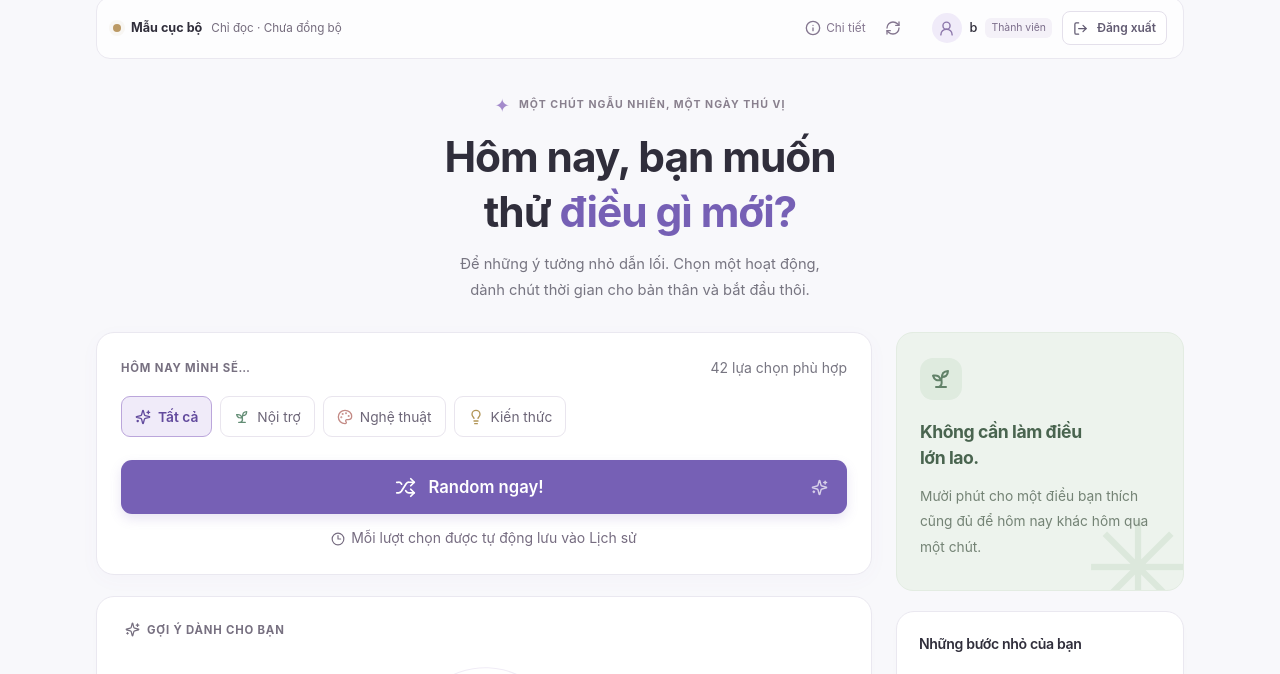
Random cho khách và mẫu chỉ đọc › cộng đồng có dữ liệu sau tải lại: thay mẫu, bỏ nhãn mẫu và cho Member đóng góp
Click the button named "Tải lại thư viện".
click(892, 28)  # box x1=878 y1=10 x2=908 y2=46
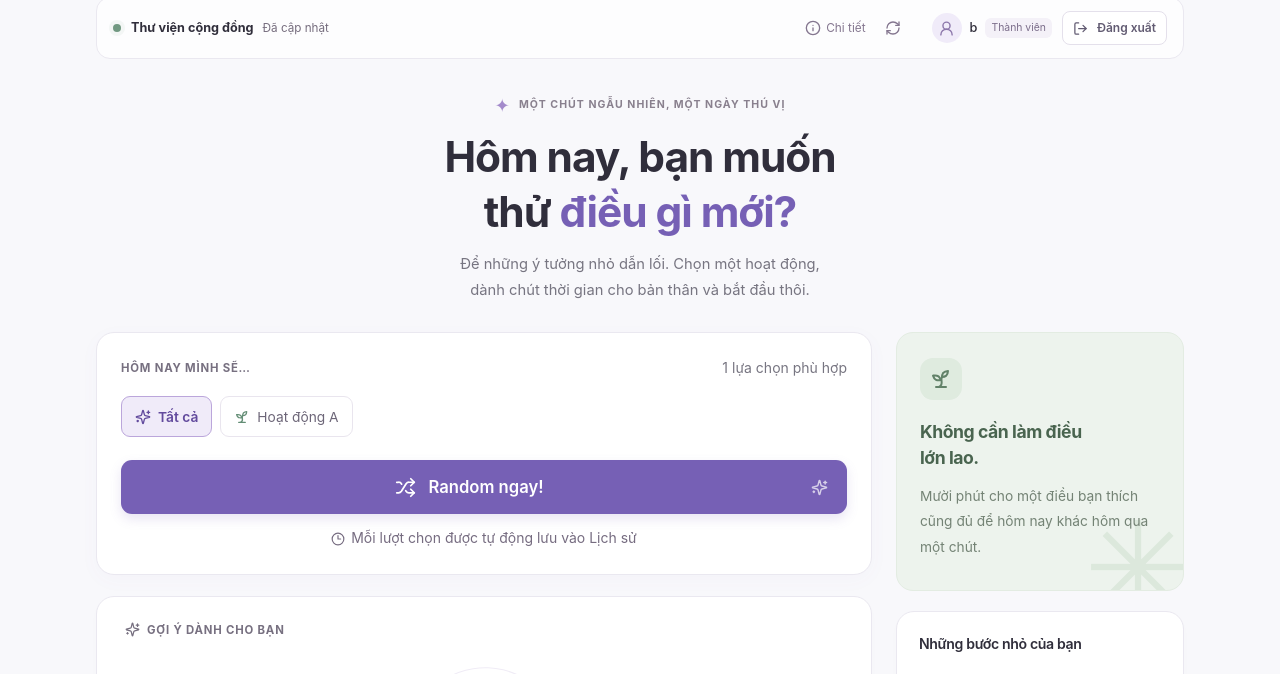
Check: the text "Đã cập nhật" is shown, box x1=262 y1=19 x2=329 y2=38
Click the button "Random ngay!".
click(484, 487)  # box x1=121 y1=460 x2=847 y2=514
(page scrolled)
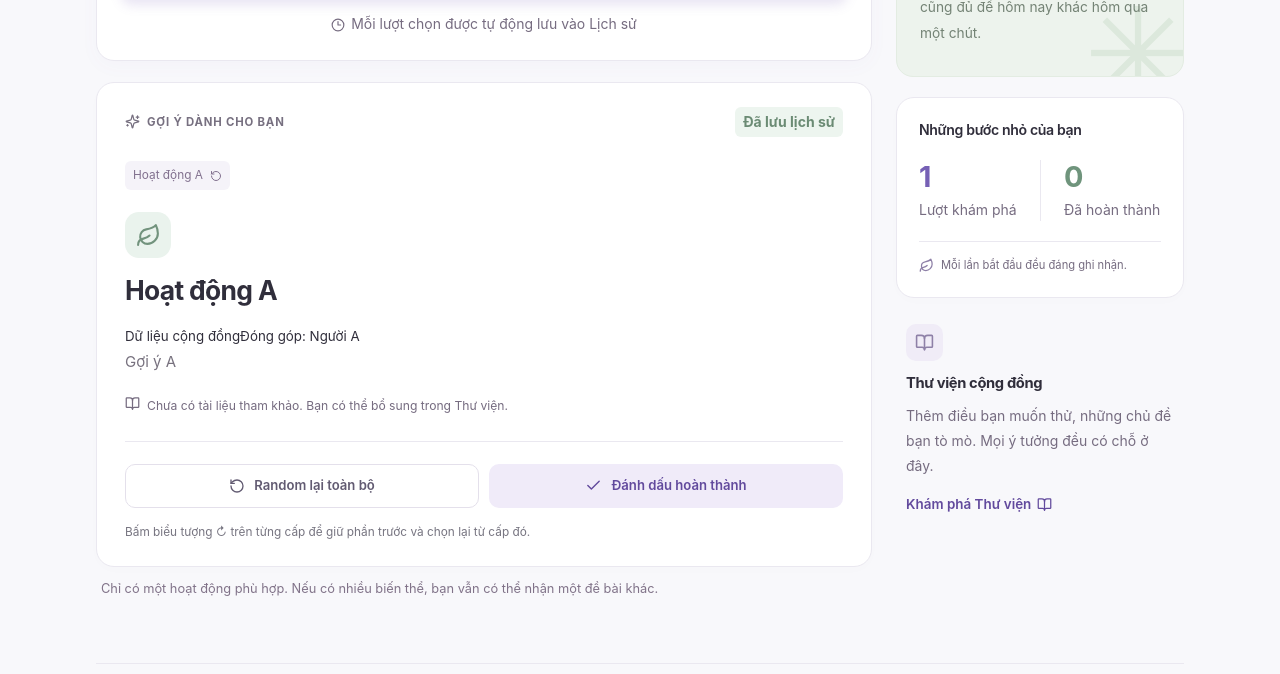
Check: the heading "Hoạt động A" is shown, box x1=125 y1=274 x2=277 y2=306
